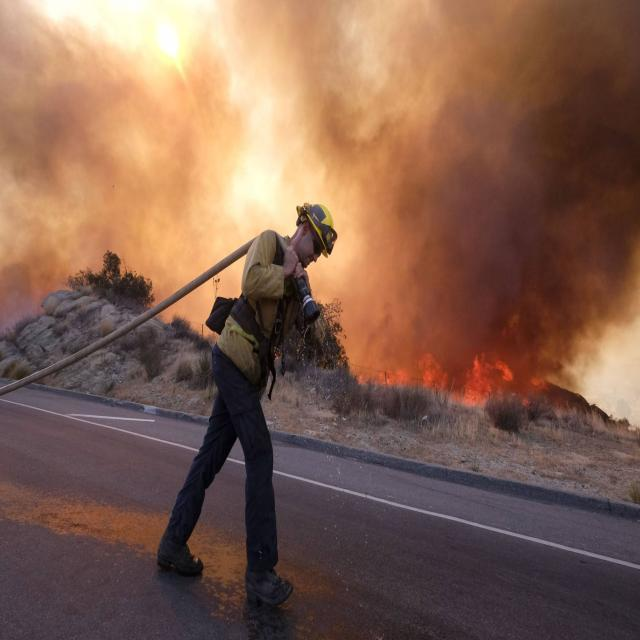Fire: (356, 344, 548, 407)
Smoke: (0, 0, 640, 417)
